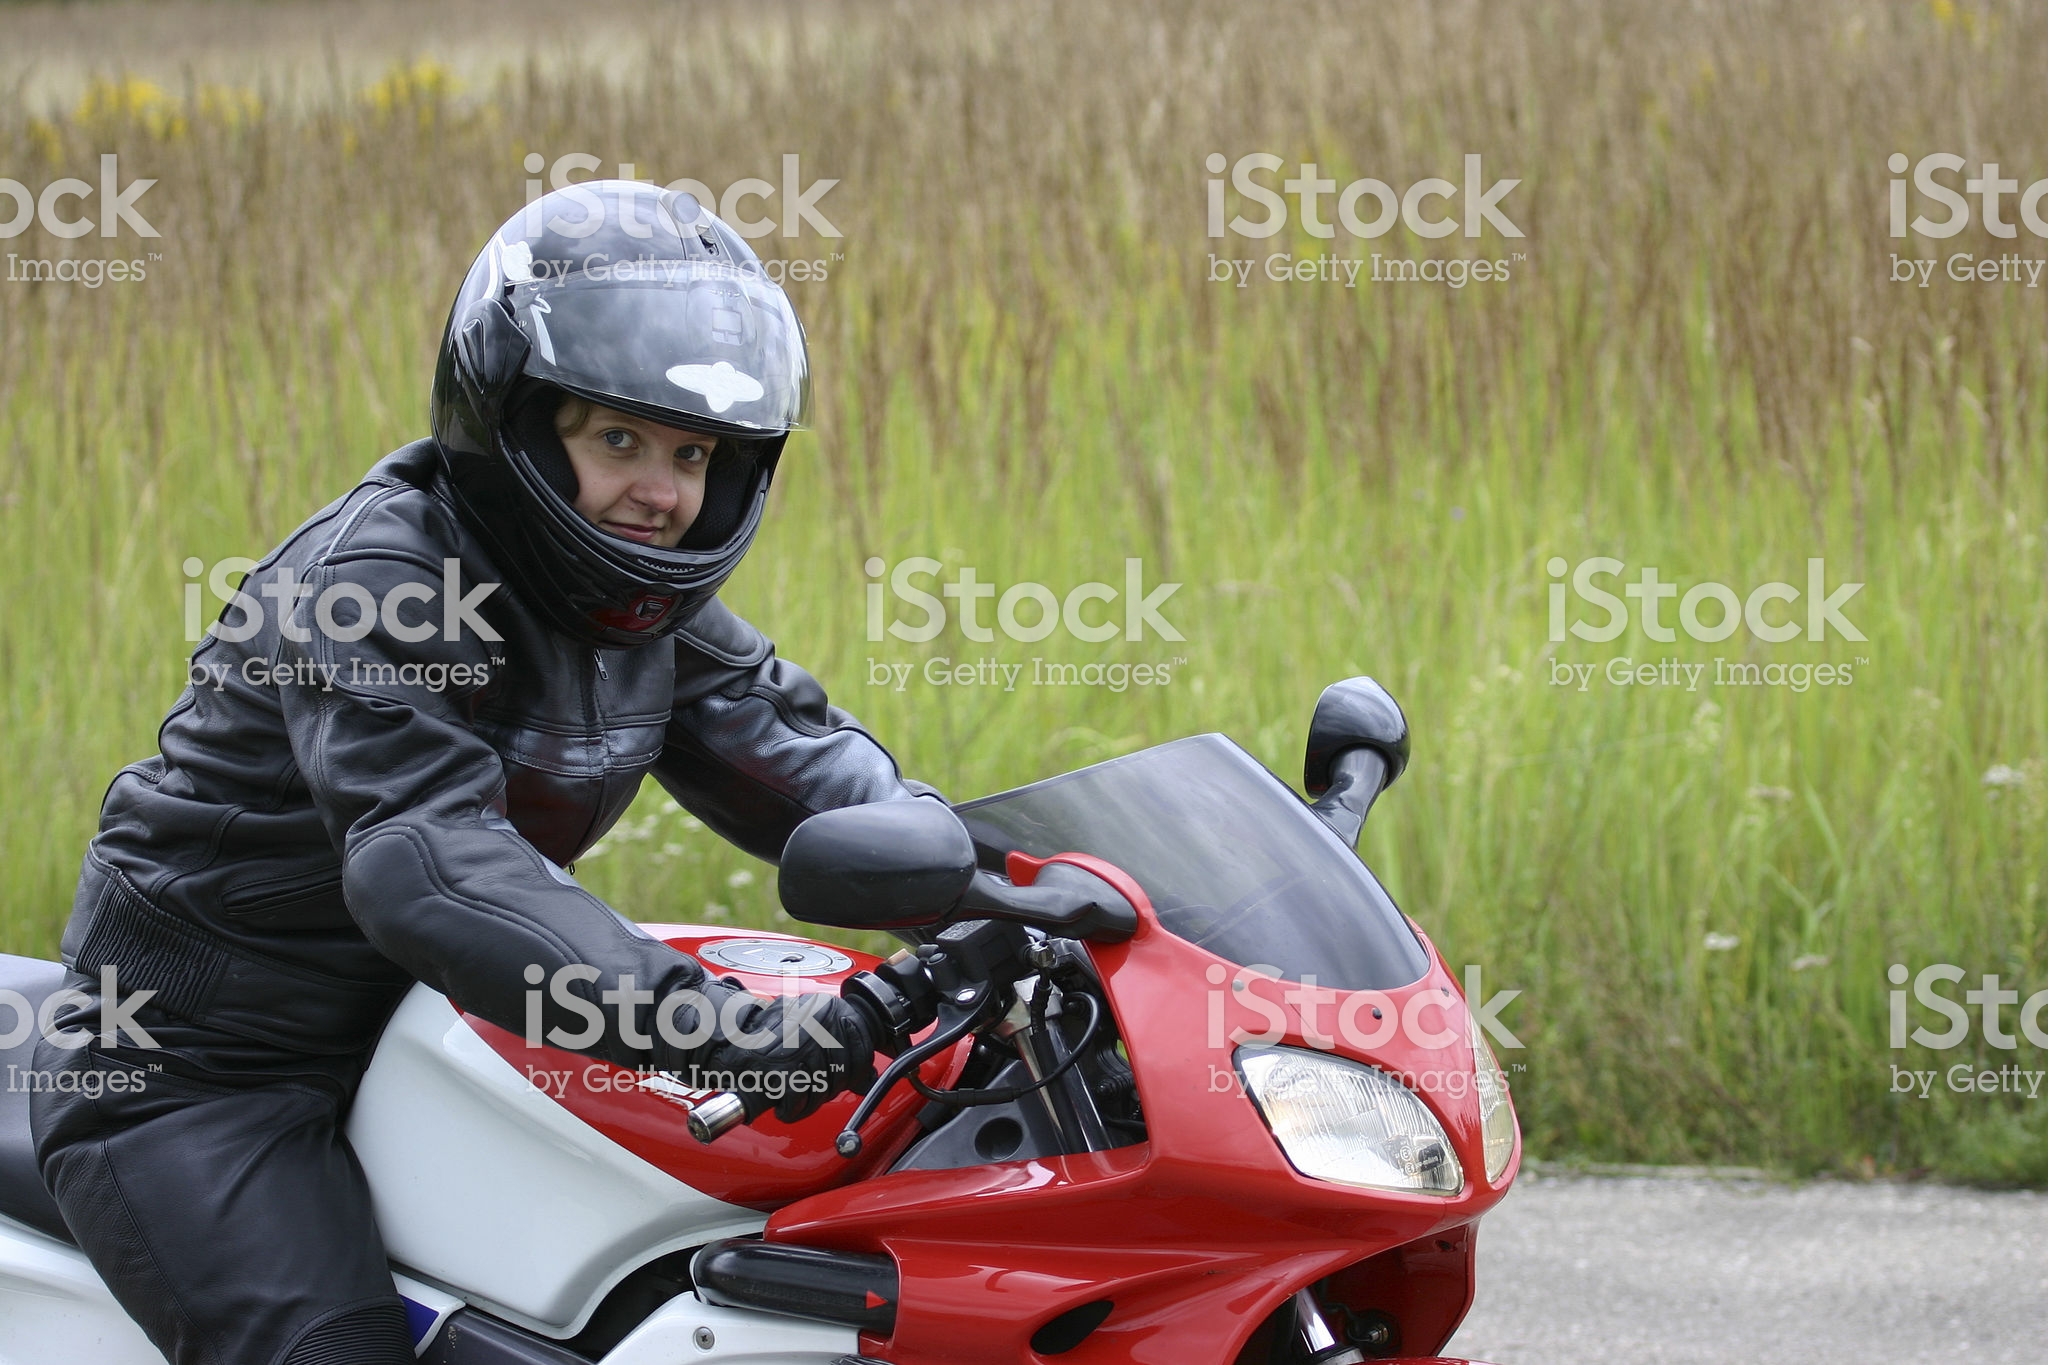helmet: (429, 175, 819, 623)
